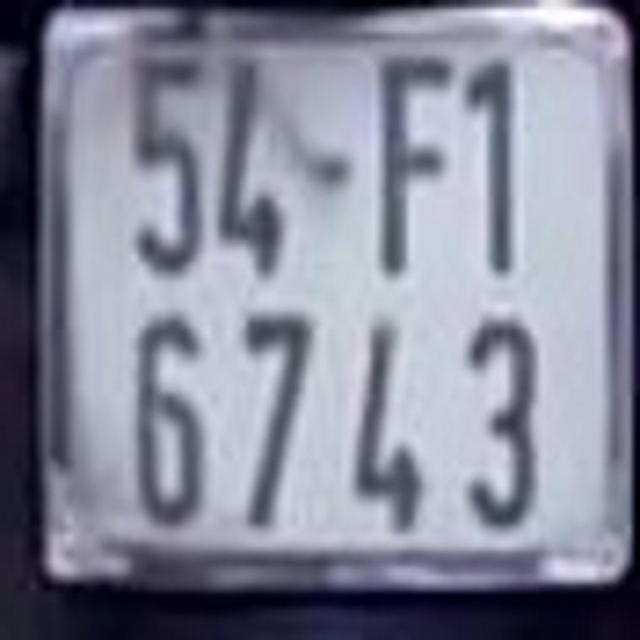1: (464, 41, 524, 282)
3: (460, 308, 540, 532)
4: (349, 311, 428, 531), (216, 56, 286, 275)
5: (122, 54, 212, 276)
6: (130, 303, 209, 524)
7: (241, 304, 314, 530)
F: (371, 48, 455, 279)
